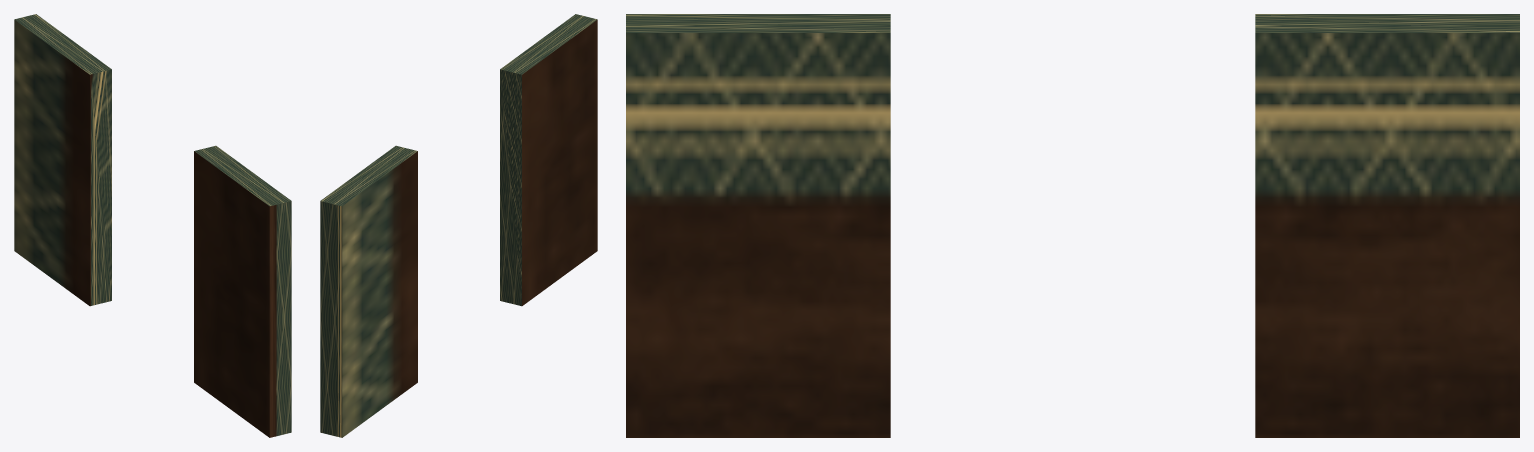
File: Wall_Bottom_Vent.glb
3 renders of one model, left to right at view 1: azimuth 30°, elevation 25°; view 2: azimuth 150°, elevation 25°; view 3: azimuth 270°, elevation 25°, orthographic. The views are drawn at different scales.
Parts seen in each view (by area): view 1: Wall_Bottom_Vent; view 2: Wall_Bottom_Vent; view 3: Wall_Bottom_Vent.
Boxes of the visible parts, bbox=[...] form: Wall_Bottom_Vent: bbox=[14, 14, 291, 437]; Wall_Bottom_Vent: bbox=[320, 14, 597, 437]; Wall_Bottom_Vent: bbox=[626, 14, 1519, 437].
Bounding box in the file's own units: 0.1 × 1 × 2.
1 material, 1 textured.
